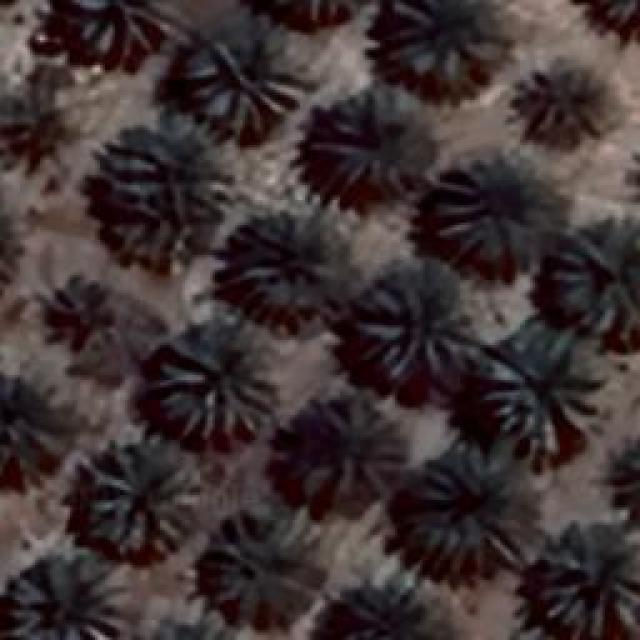PalmTree: (56, 98, 626, 477), (90, 115, 235, 260), (150, 310, 280, 440), (480, 328, 605, 462), (412, 444, 530, 568), (355, 260, 475, 378), (188, 20, 308, 138), (310, 82, 432, 196), (88, 435, 200, 555), (238, 208, 352, 316), (200, 512, 318, 612), (4, 547, 138, 635), (454, 156, 552, 272), (550, 215, 638, 343), (540, 524, 638, 638), (288, 408, 396, 510), (375, 0, 503, 85), (510, 55, 615, 143), (330, 580, 448, 640), (0, 386, 65, 494), (40, 271, 120, 354), (70, 0, 168, 55), (235, 0, 369, 32), (123, 611, 252, 640), (0, 192, 22, 301), (590, 0, 640, 46)
